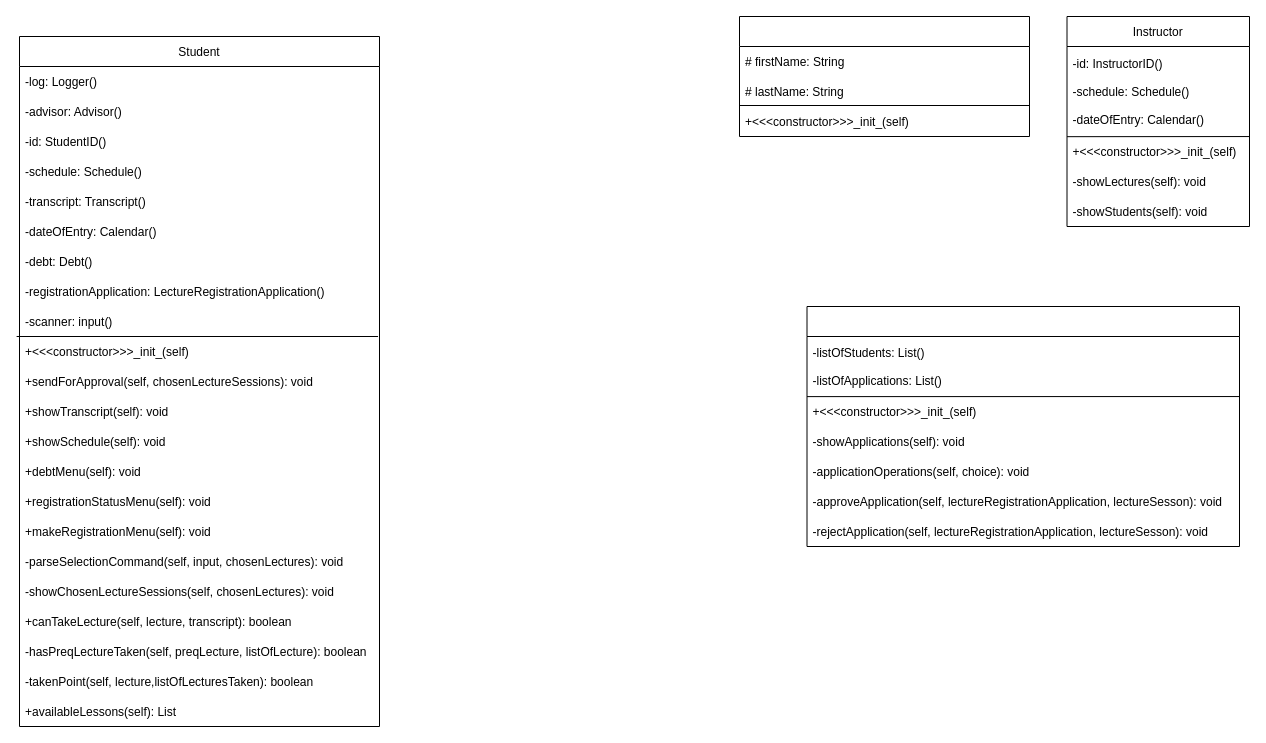
Image size: 1266x743. Some labels were removed from this diagram. The box of each missing label's shape, as (x1, y1, x2, y2) in pixels:
Advisor: (806, 306, 1240, 546)
Person: (738, 16, 1030, 136)
